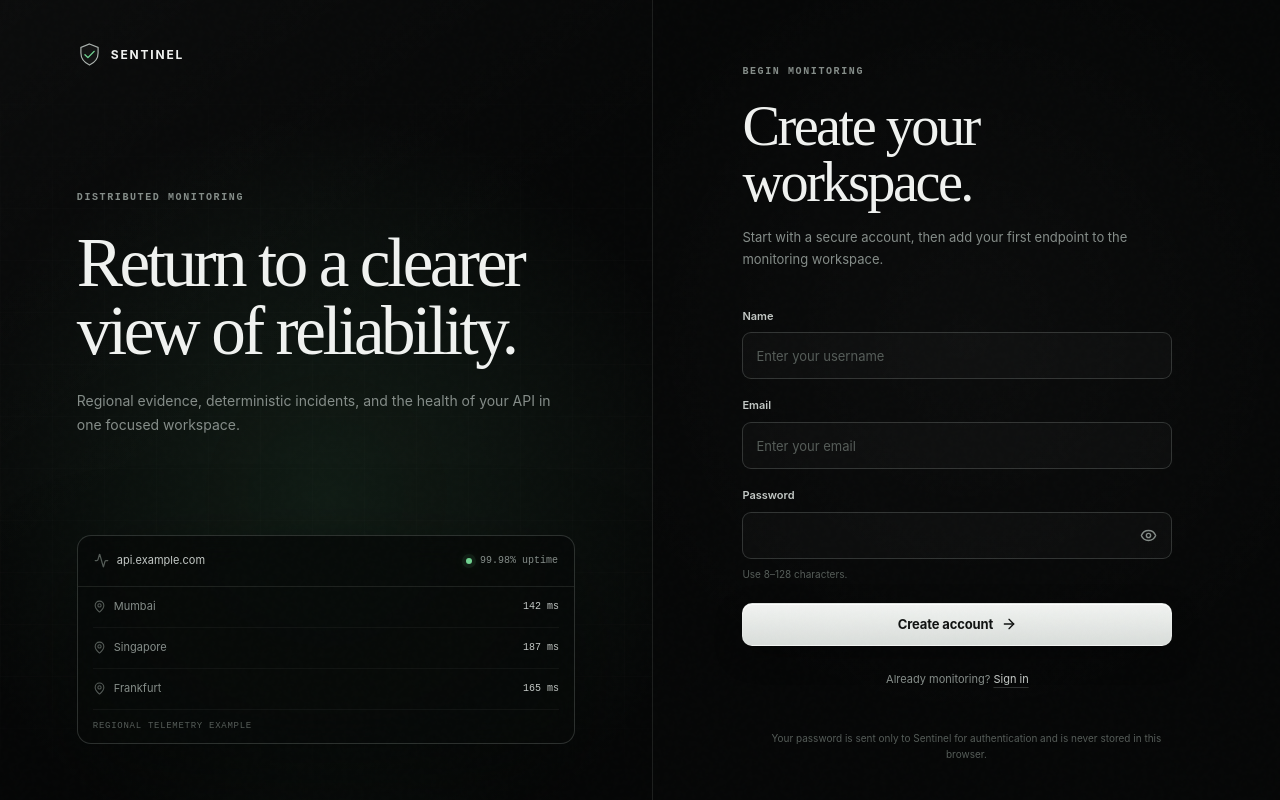
Sentinel authentication routes › registers, normalizes input, persists only the token, and opens /app
In the field labelled "Name": (957, 356) [742,332,1172,379], type "  Pulkit  "
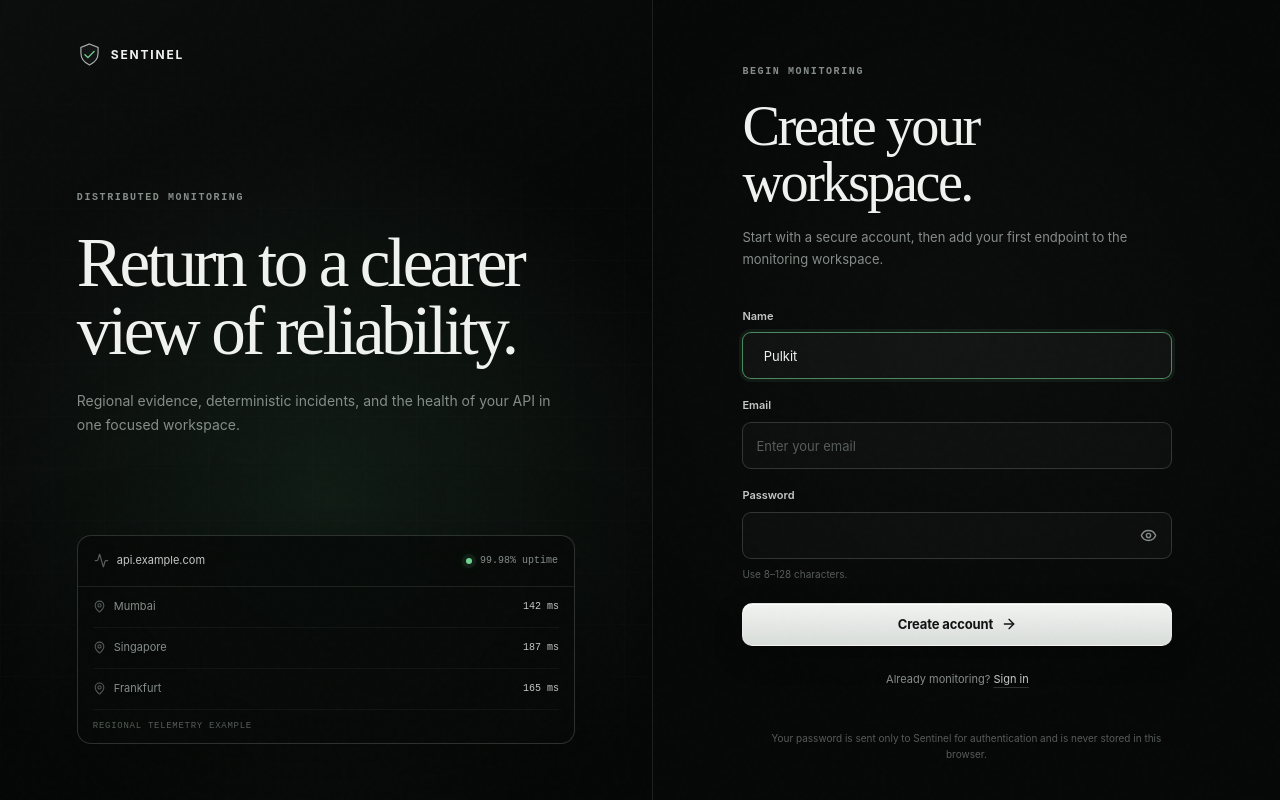
In the field labelled "Email": (957, 446) [742,422,1172,469], type "PULKIT@EXAMPLE.COM "
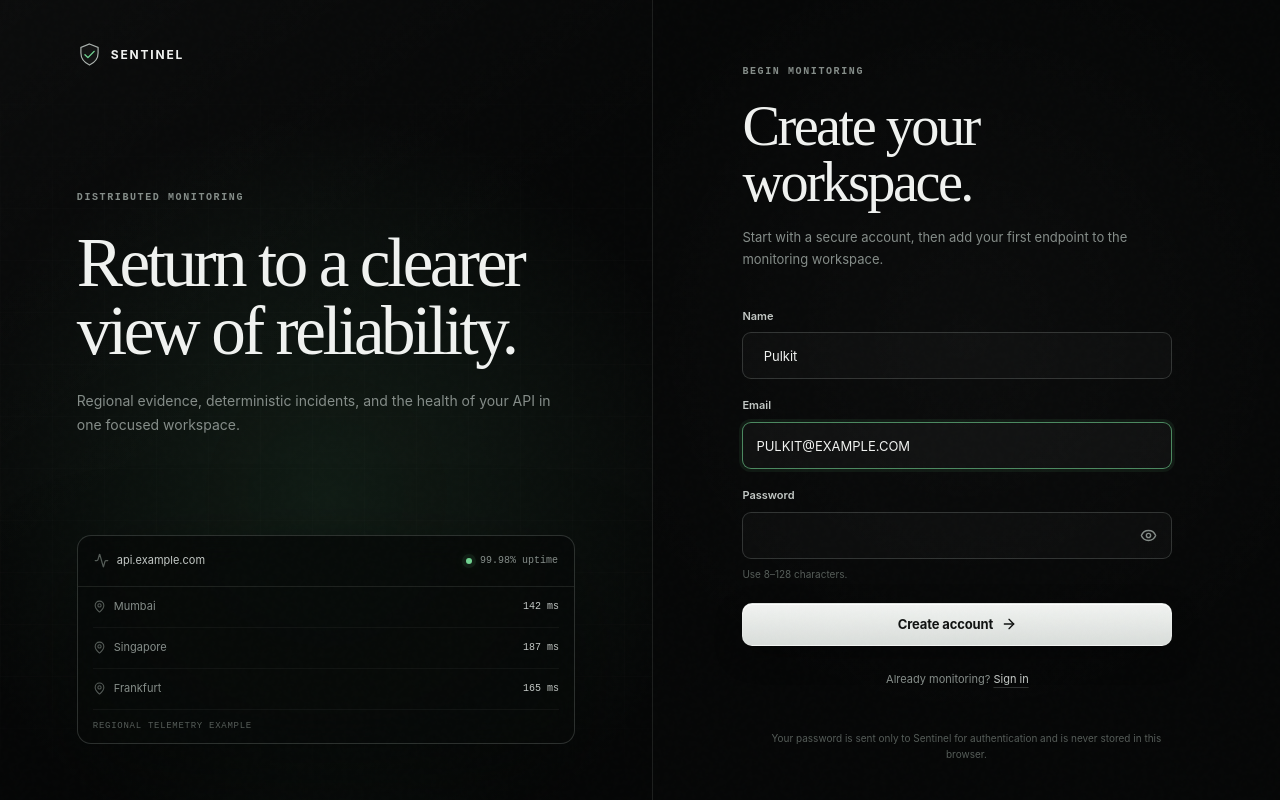
In the password field labelled "Password": (957, 535) [742,512,1172,559], type "password"
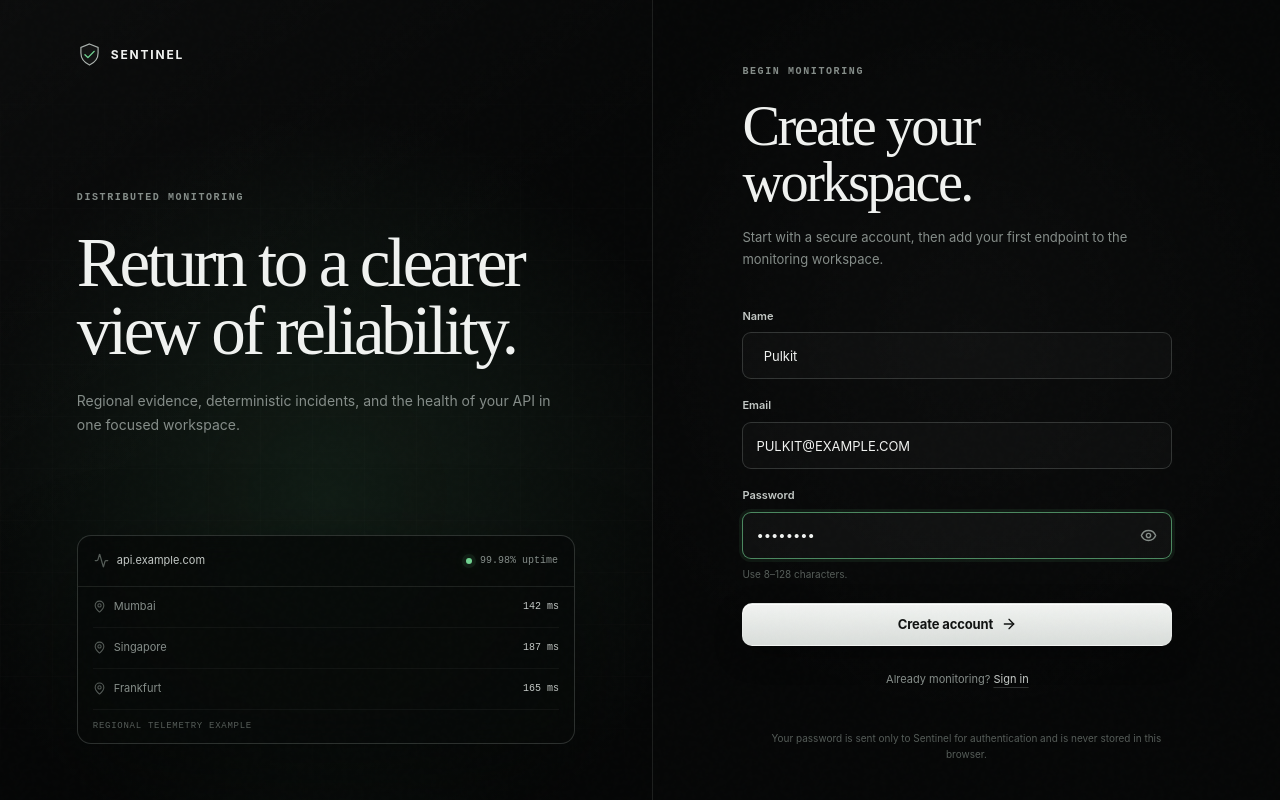
Click the button "Create account": (957, 624) [742,603,1172,646]
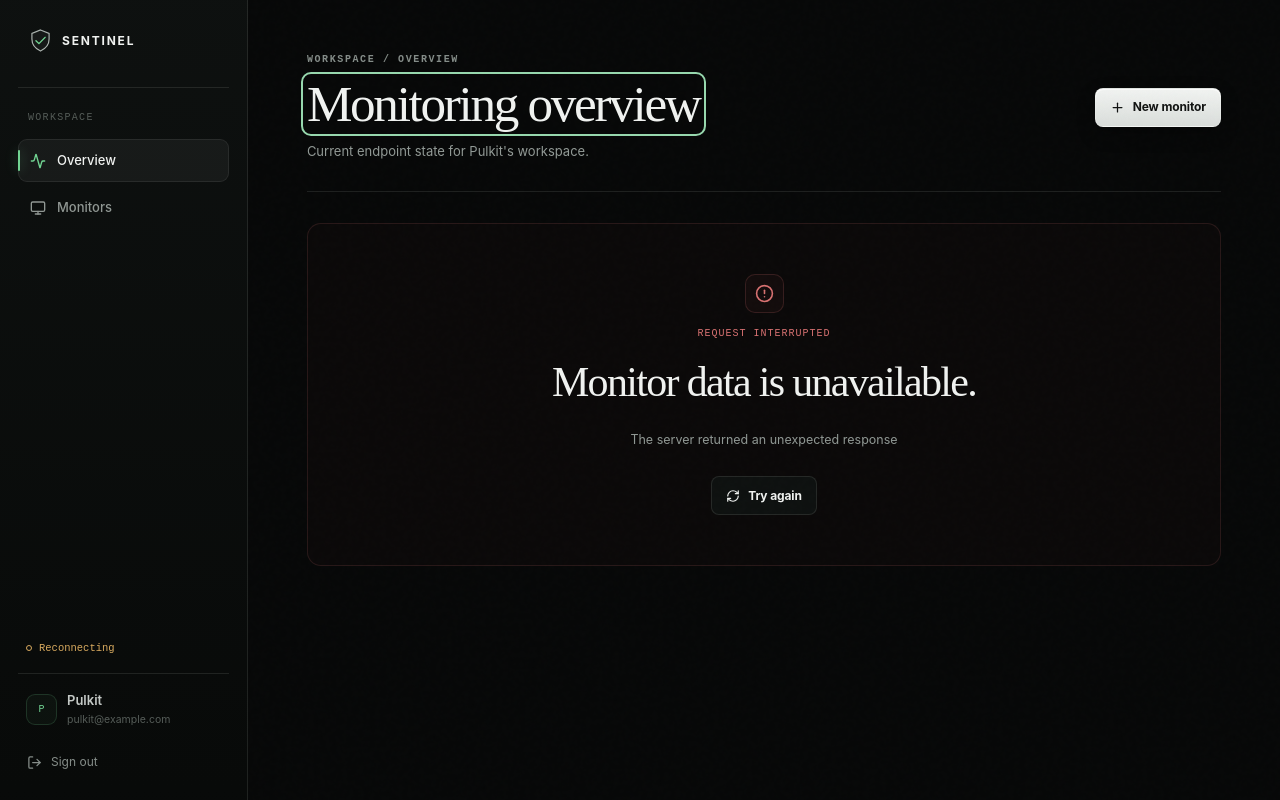
Expected: the heading "Monitoring overview" is shown, [307,78,700,130]
